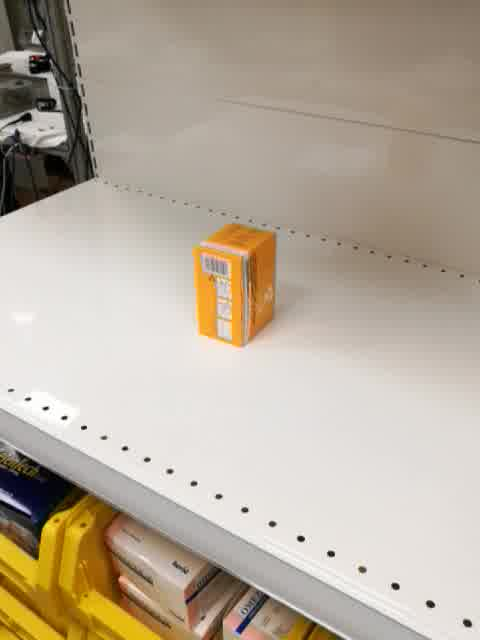jasminetea: (193, 223, 278, 349)
